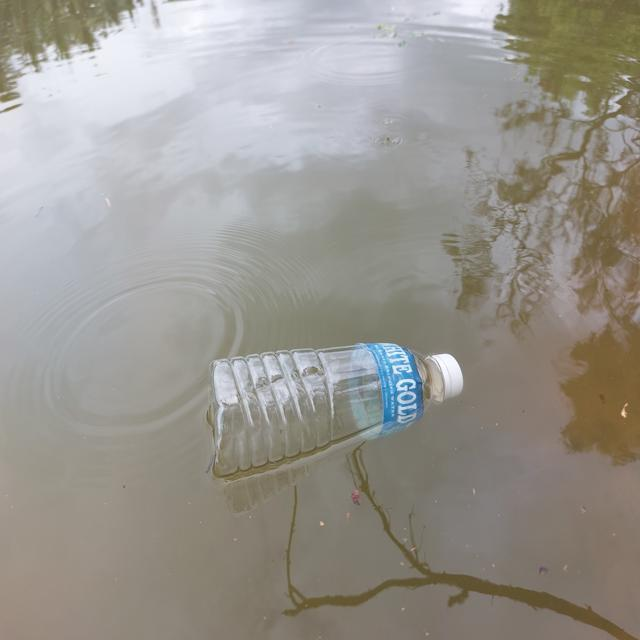waterbottle: (182, 336, 464, 471)
